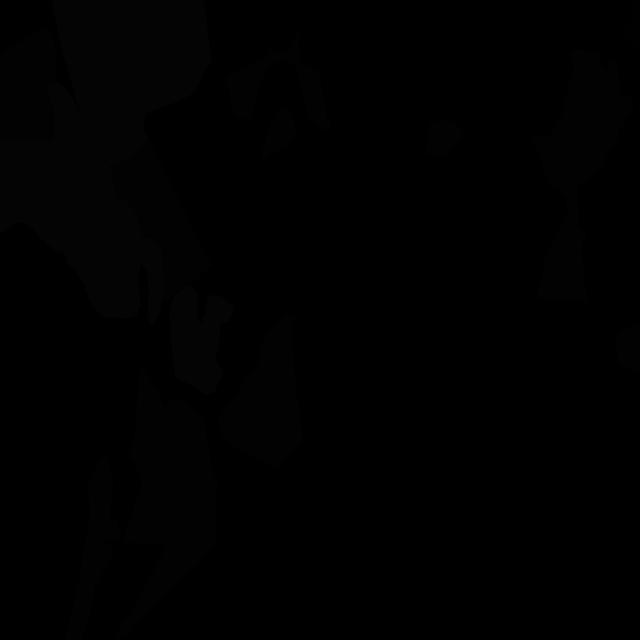cardboard: (110, 364, 219, 640), (110, 138, 213, 301), (218, 314, 304, 467), (548, 49, 633, 186), (223, 30, 332, 132), (64, 456, 122, 640), (530, 136, 588, 302), (0, 26, 56, 142), (260, 105, 297, 163), (425, 120, 465, 159), (616, 324, 640, 372)
rigid_plastic: (622, 0, 640, 48)
soft_plastic: (0, 82, 165, 326), (52, 0, 212, 166), (169, 284, 235, 395)
